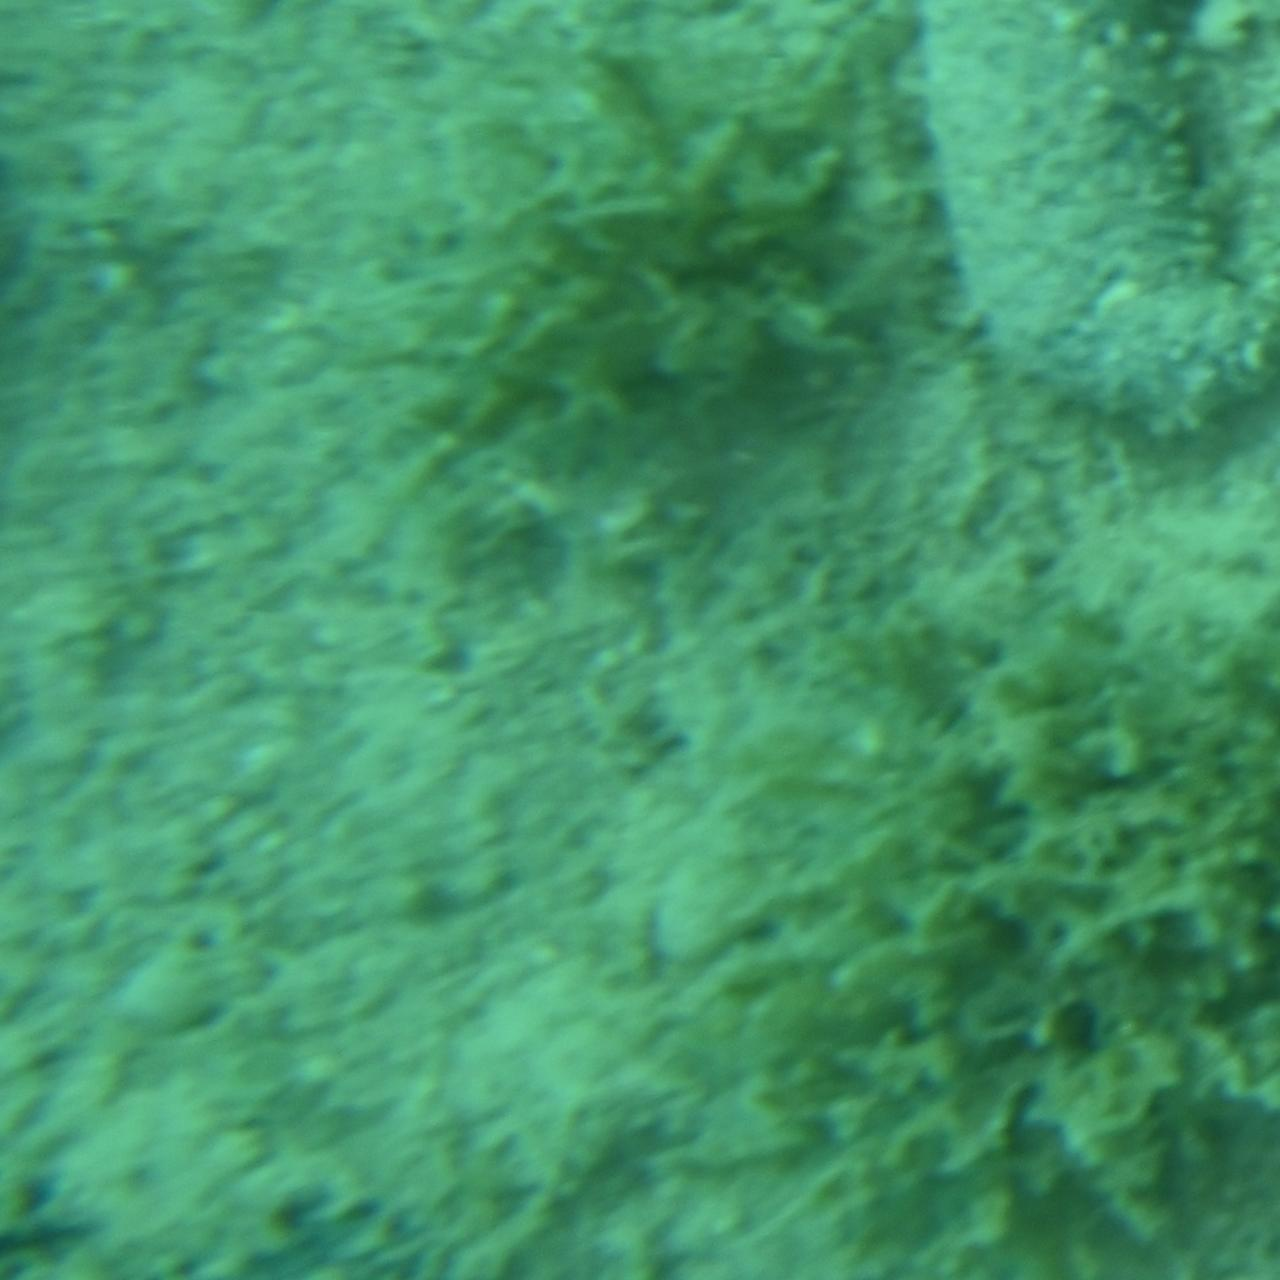Holothuria tubulosa: (921, 0, 1280, 499), (0, 1109, 479, 1280)
Phaeophyceae -cfr Cystoseira-: (687, 608, 1280, 1280)
